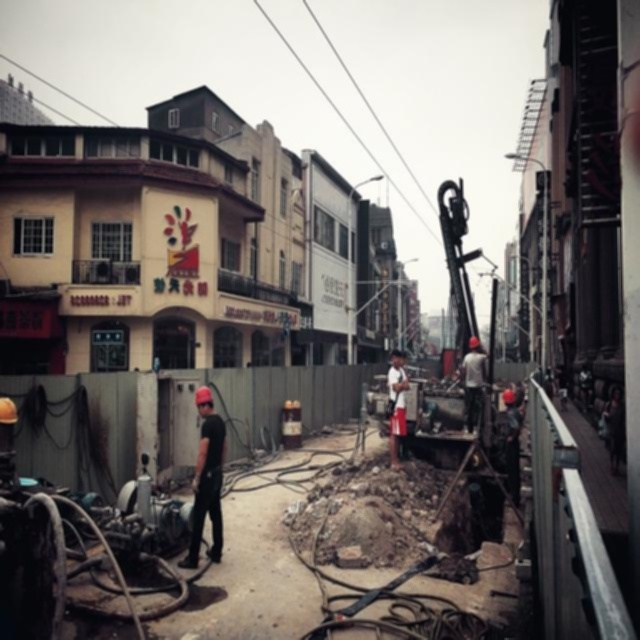Sin_Chaleco: (198, 415, 226, 476), (388, 368, 406, 409)
